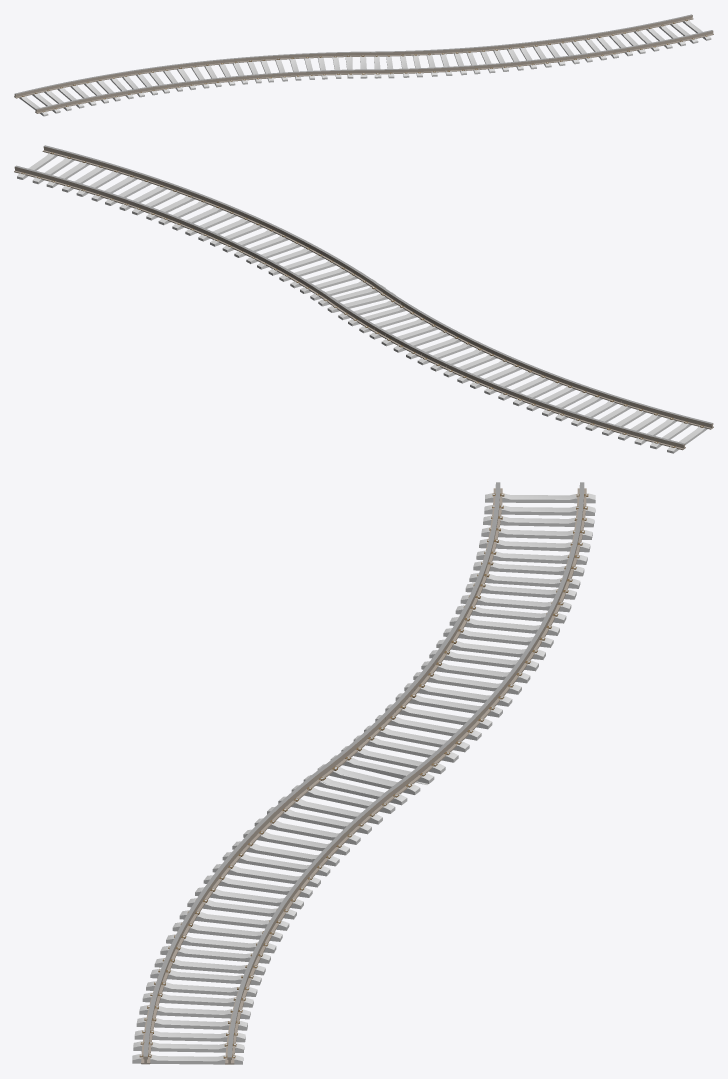
File: road6.fbx
3 renders of one model, top to bottom at view 1: azimuth 30°, elevation 25°; view 2: azimuth 150°, elevation 25°; view 3: azimuth 270°, elevation 25°, orthographic. The views are drawn at different scales.
Parts seen in each view (by area): view 1: Null_1_6; view 2: Null_1_6; view 3: Null_1_6.
Boxes of the visible parts, x1,y1,x2,y2 form: Null_1_6: [14, 14, 713, 116]; Null_1_6: [14, 145, 713, 453]; Null_1_6: [132, 482, 595, 1064].
Bounding box in the file's own units: 5224 × 50.53 × 1780.
